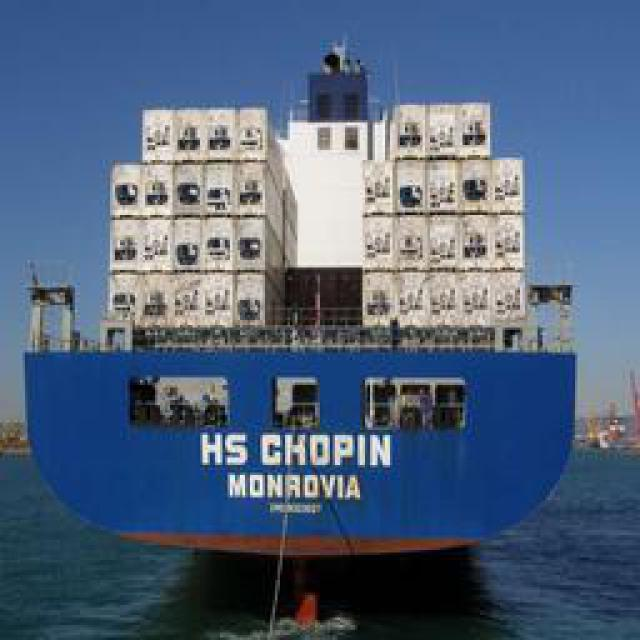Ship: (24, 259, 567, 569)
